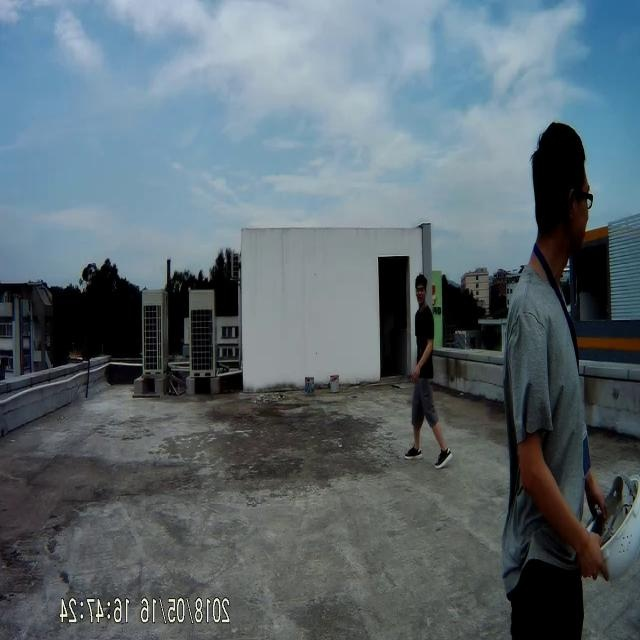Sin_Casco_Mascarrilla: (533, 123, 591, 254)
Sin_Chaleco: (501, 286, 586, 574)
